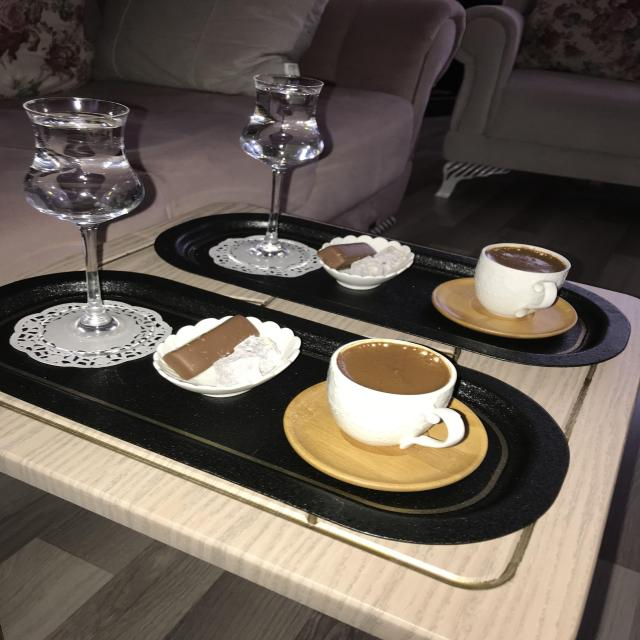cup-handle: (326, 338, 468, 454), (473, 242, 571, 318)
glass-wine: (21, 96, 148, 352), (228, 72, 325, 272)
